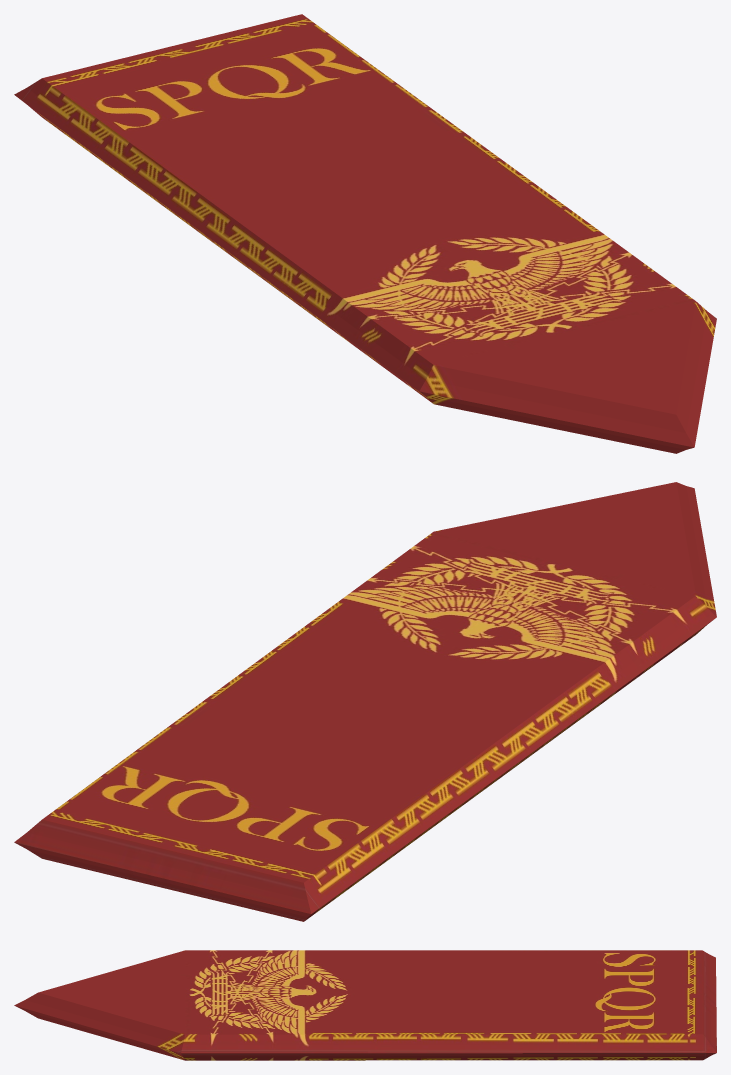
File: EstandarteBO.fbx
The picture shows the model from 3 angles, top to bottom: view 1: azimuth 30°, elevation 25°; view 2: azimuth 150°, elevation 25°; view 3: azimuth 270°, elevation 25°; orthographic projection. The views are drawn at different scales.
Visible parts, largest first — view 1: Plane; view 2: Plane; view 3: Plane.
Boxes of the visible parts, left/top/right/bottom form: Plane: left=14, top=14, right=716, bottom=453; Plane: left=14, top=482, right=716, bottom=921; Plane: left=14, top=950, right=716, bottom=1060.
Bounding box in the file's own units: 144 × 18.05 × 445.
Materials: 1 (1 with a texture image).
